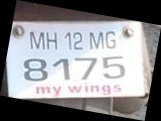character: (22, 57, 48, 81), (102, 54, 124, 79), (74, 57, 97, 80), (51, 57, 70, 80), (28, 31, 45, 50), (88, 31, 104, 50), (45, 31, 57, 49), (72, 31, 83, 50), (105, 30, 116, 49), (63, 31, 72, 51)
